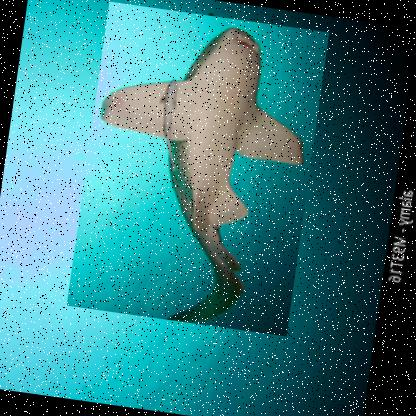zebra_shark: (66, 0, 330, 336)
